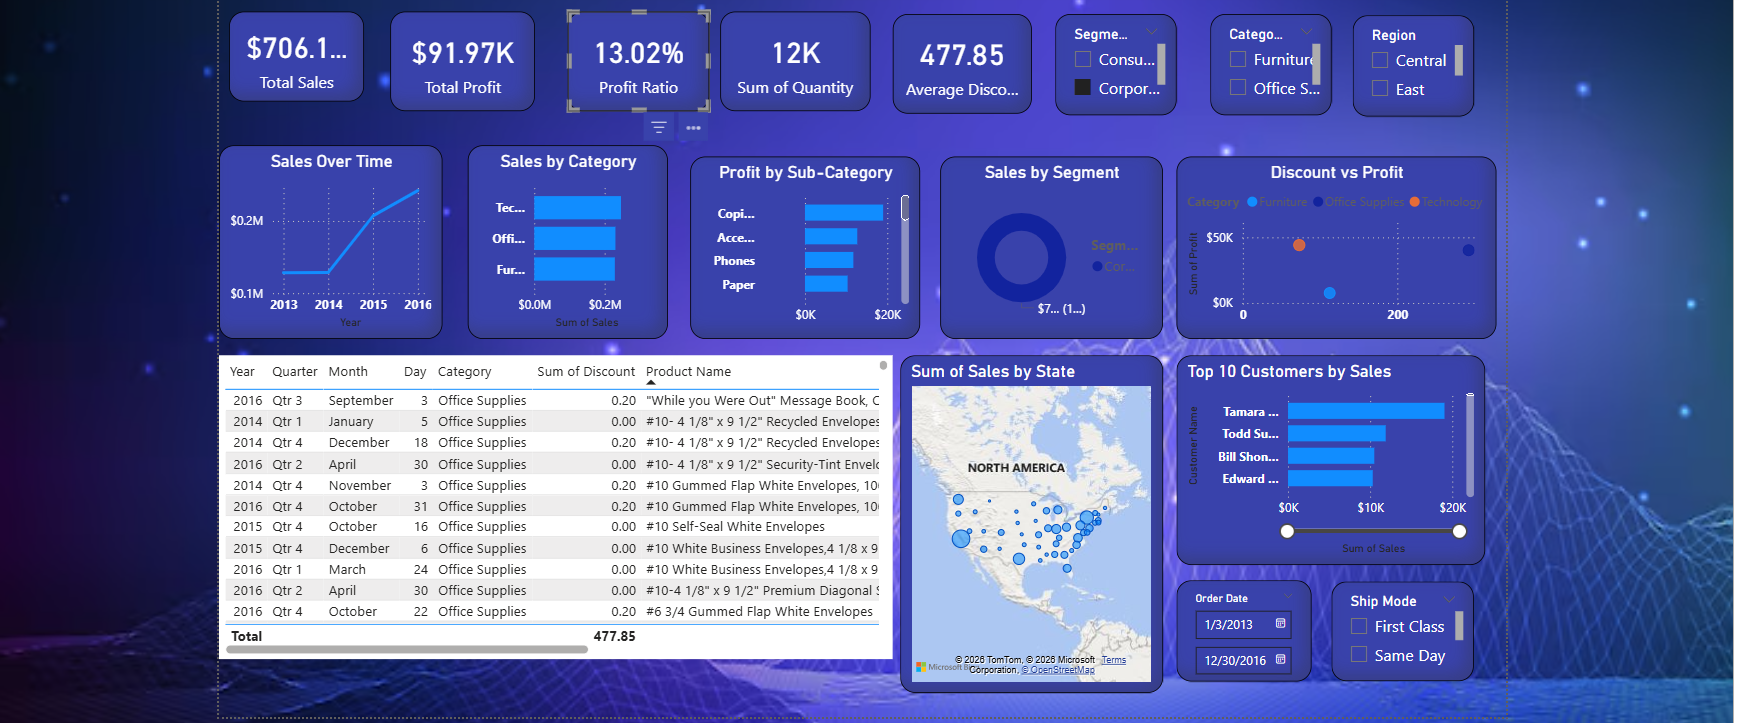

The dashboard page shown, as its layout file describes it:
{"tool":"powerbi","page":{"name":"Page 1","canvas":[1280,720],"ordinal":0},"visuals":[{"type":"card","fields":{"Values":["Tableau Superstore.Sales"]},"box":[10,17.4,134.3,89.6],"z":0},{"type":"card","fields":{"Values":["Tableau Superstore.Discount"]},"box":[670.5,19.9,138.1,99.5],"z":1000},{"type":"card","fields":{"Values":["Tableau Superstore.Quantity"]},"box":[498.8,17.4,149.3,99.5],"z":2000},{"type":"card","fields":{"Values":["Tableau Superstore.Measure"]},"box":[347.1,17.4,140.6,99.5],"z":3000},{"type":"card","fields":{"Values":["Tableau Superstore.Profit"]},"box":[170.4,17.4,144.3,99.5],"z":4000},{"type":"lineChart","title":"Sales Over Time","fields":{"Category":["Tableau Superstore.Order Date.Variation.Date Hierarchy.Year","Tableau Superstore.Order Date.Variation.Date Hierarchy.Month"],"Y":["Tableau Superstore.Sales"]},"box":[0,150.5,222.7,192.8],"z":5000},{"type":"barChart","title":"Sales by Category","fields":{"Y":["Tableau Superstore.Sales"],"Category":["Tableau Superstore.Category"]},"box":[247.5,150.5,199,192.8],"z":6000},{"type":"barChart","title":"Profit by Sub-Category","fields":{"Category":["Tableau Superstore.Sub-Category"],"Y":["Tableau Superstore.Profit"]},"box":[469,161.7,228.9,181.6],"z":7000},{"type":"map","fields":{"Category":["Tableau Superstore.State"],"Size":["Tableau Superstore.Sales"]},"box":[678,359.5,261.2,335.9],"z":8000},{"type":"donutChart","title":"Sales by Segment","fields":{"Category":["Tableau Superstore.Segment"],"Y":["Tableau Superstore.Sales"]},"box":[717.8,161.7,221.4,181.6],"z":9000},{"type":"barChart","title":"Top 10 Customers by Sales","fields":{"Category":["Tableau Superstore.Customer Name"],"Y":["Tableau Superstore.Sales"]},"box":[952.9,359.5,307.3,209],"z":10000},{"type":"scatterChart","title":"Discount vs Profit","fields":{"X":["Tableau Superstore.Discount"],"Y":["Tableau Superstore.Profit"],"Size":["Tableau Superstore.Sales"],"Series":["Tableau Superstore.Category"]},"box":[952.9,161.7,318.5,181.6],"z":11000},{"type":"tableEx","fields":{"Values":["Tableau Superstore.Order Date.Variation.Date Hierarchy.Year","Tableau Superstore.Order Date.Variation.Date Hierarchy.Quarter","Tableau Superstore.Order Date.Variation.Date Hierarchy.Month","Tableau Superstore.Order Date.Variation.Date Hierarchy.Day","Tableau Superstore.Category","Tableau Superstore.Discount","Tableau Superstore.Product Name","Tableau Superstore.Sub-Category","Tableau Superstore.Sales","Tableau Superstore.Quantity","Tableau Superstore.Profit"]},"box":[0,359.5,670.5,302.3],"z":12000},{"type":"slicer","fields":{"Values":["Tableau Superstore.Segment"]},"box":[832.2,19.9,120.7,100.8],"z":13000},{"type":"slicer","fields":{"Values":["Tableau Superstore.Category"]},"box":[986.5,19.9,120.7,100.8],"z":14000},{"type":"slicer","fields":{"Values":["Tableau Superstore.Order Date"]},"box":[952.9,583.4,134.3,100.8],"z":15000},{"type":"slicer","fields":{"Values":["Tableau Superstore.Region"]},"box":[1128.3,21.1,120.7,100.8],"z":16000},{"type":"slicer","fields":{"Values":["Tableau Superstore.Ship Mode"]},"box":[1107.1,584.7,141.8,99.5],"z":17000}]}

Visuals, with their boxes on the page's 1280x720 design canvas (x1, y1, x2, y2). These are canvas units, not pixel positions in the 1739x723 screenshot, which may show the page scaled, cropped or inside an application window:
card - Tableau Superstore.Sales: (x1=10, y1=17, x2=144, y2=107)
card - Tableau Superstore.Discount: (x1=670, y1=20, x2=809, y2=119)
card - Tableau Superstore.Quantity: (x1=499, y1=17, x2=648, y2=117)
card - Tableau Superstore.Measure: (x1=347, y1=17, x2=488, y2=117)
card - Tableau Superstore.Profit: (x1=170, y1=17, x2=315, y2=117)
"Sales Over Time" lineChart: (x1=0, y1=150, x2=223, y2=343)
"Sales by Category" barChart: (x1=248, y1=150, x2=446, y2=343)
"Profit by Sub-Category" barChart: (x1=469, y1=162, x2=698, y2=343)
map - Tableau Superstore.State x Tableau Superstore.Sales: (x1=678, y1=360, x2=939, y2=695)
"Sales by Segment" donutChart: (x1=718, y1=162, x2=939, y2=343)
"Top 10 Customers by Sales" barChart: (x1=953, y1=360, x2=1260, y2=568)
"Discount vs Profit" scatterChart: (x1=953, y1=162, x2=1271, y2=343)
tableEx - Tableau Superstore.Order Date.Variation.Date Hierarchy.Year x Tableau Superstore.Order Date.Variation.Date Hierarchy.Quarter: (x1=0, y1=360, x2=670, y2=662)
slicer - Tableau Superstore.Segment: (x1=832, y1=20, x2=953, y2=121)
slicer - Tableau Superstore.Category: (x1=986, y1=20, x2=1107, y2=121)
slicer - Tableau Superstore.Order Date: (x1=953, y1=583, x2=1087, y2=684)
slicer - Tableau Superstore.Region: (x1=1128, y1=21, x2=1249, y2=122)
slicer - Tableau Superstore.Ship Mode: (x1=1107, y1=585, x2=1249, y2=684)
